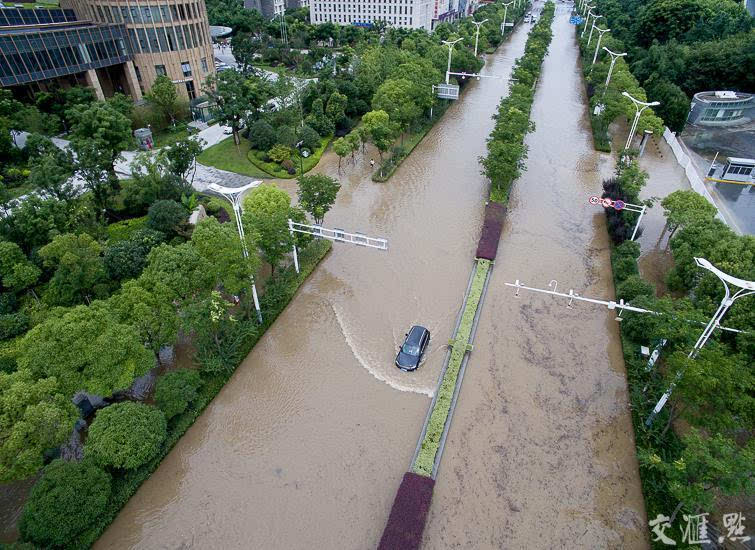puddle: (320, 178, 617, 550)
